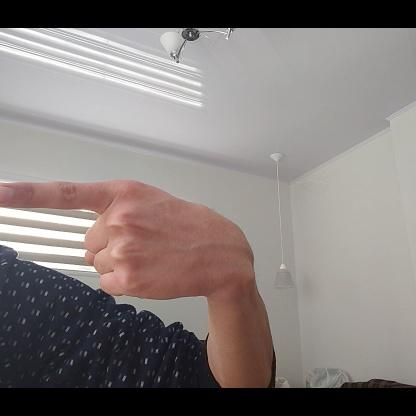G: (0, 179, 243, 300)
